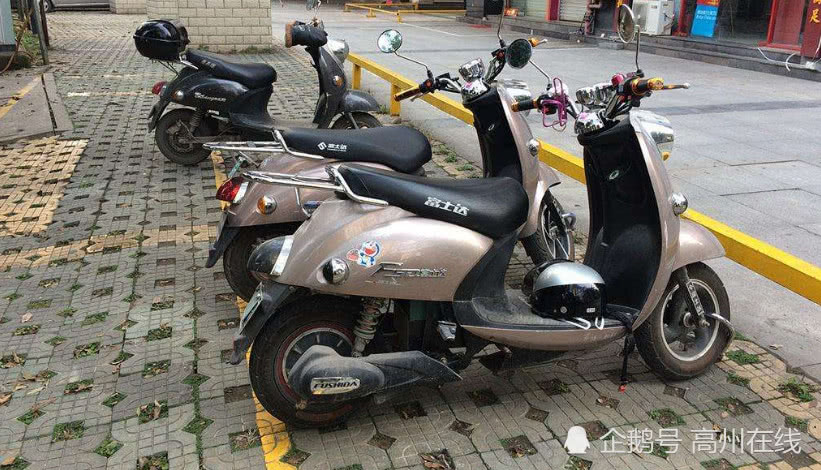电动车: (256, 50, 729, 427), (222, 50, 573, 293), (119, 8, 375, 152)
